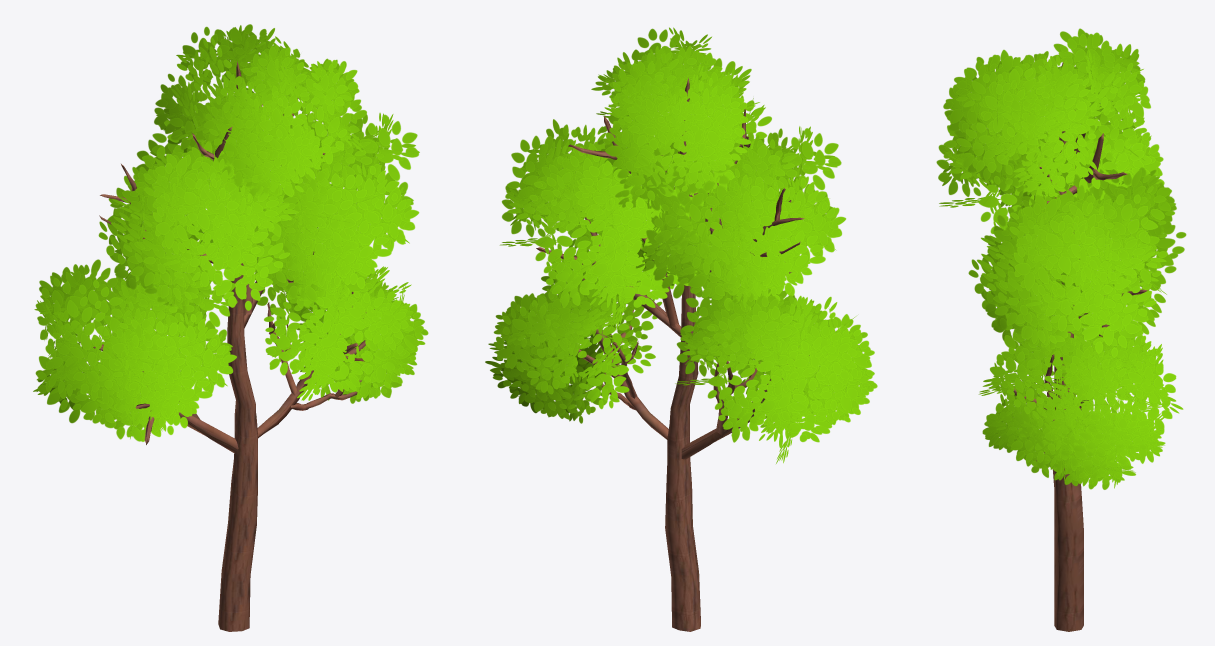
Rendered from normal_tree_2.glb.
3 renders of one model, left to right at view 1: azimuth 30°, elevation 25°; view 2: azimuth 150°, elevation 25°; view 3: azimuth 270°, elevation 25°, orthographic. The views are drawn at different scales.
Visible parts, largest first — view 1: NormalTree_2; view 2: NormalTree_2; view 3: NormalTree_2.
Part boxes in pixels (x1,y1,x2,y2): NormalTree_2: (33, 24, 428, 631); NormalTree_2: (485, 27, 877, 631); NormalTree_2: (936, 28, 1186, 631).
Size of the model in its own units: 4.55 by 6.56 by 2.79.
2 materials, 2 textured.
